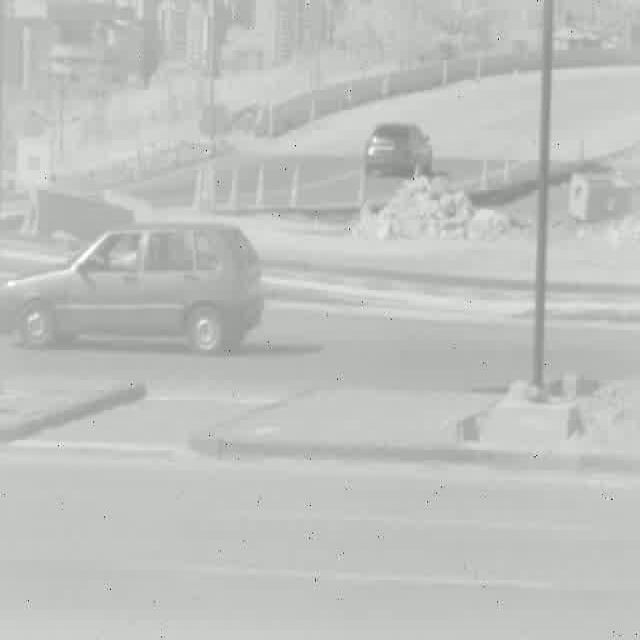Car: (0, 225, 262, 355), (366, 124, 434, 178)
